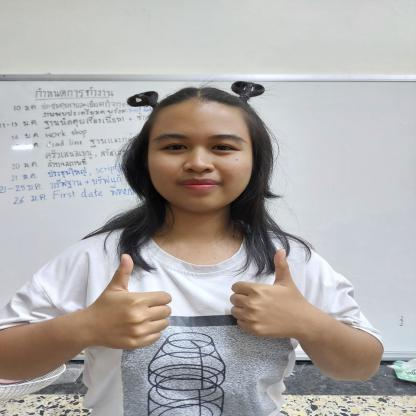OK: (81, 244, 324, 352)
